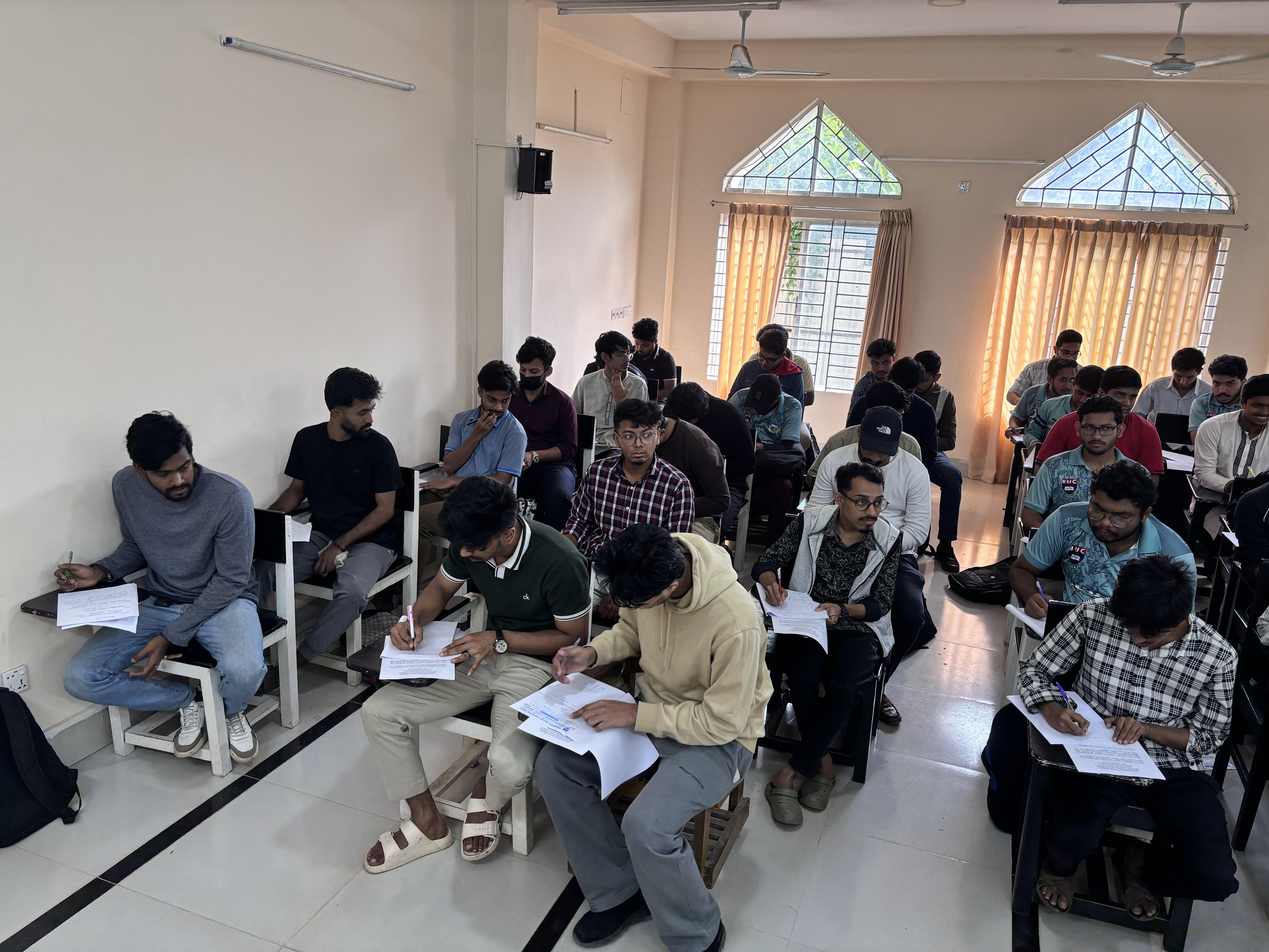copying: (50, 406, 259, 742), (254, 359, 408, 612), (1040, 461, 1179, 563), (442, 360, 529, 500)
no_cheating: (1020, 549, 1250, 868), (375, 477, 560, 757), (551, 511, 723, 810), (765, 462, 900, 693), (579, 399, 675, 517), (841, 400, 918, 487), (1053, 398, 1134, 477), (728, 371, 800, 459), (511, 337, 563, 419), (1161, 346, 1209, 416), (1030, 353, 1086, 412), (1101, 367, 1149, 426), (745, 327, 798, 379), (627, 313, 665, 373), (855, 332, 902, 380)
side_talking: (1200, 378, 1269, 498), (577, 329, 652, 408)
